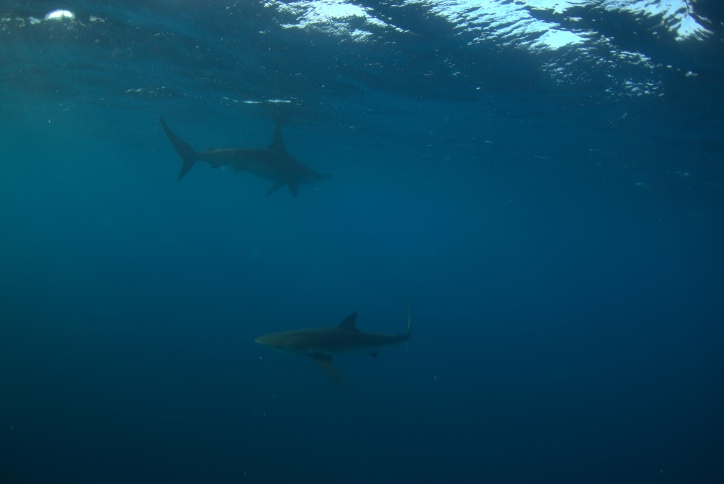Sedoso: (208, 297, 437, 394)
